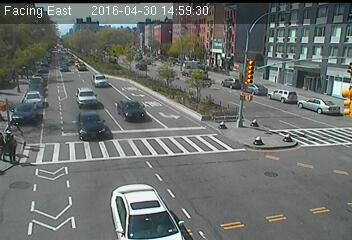neg: (114, 93, 138, 124), (77, 112, 95, 135), (169, 69, 180, 84), (133, 58, 144, 73), (214, 98, 224, 112), (197, 90, 207, 103), (164, 56, 173, 68)
pos: (1, 132, 25, 166), (20, 66, 30, 79), (10, 71, 19, 83)
